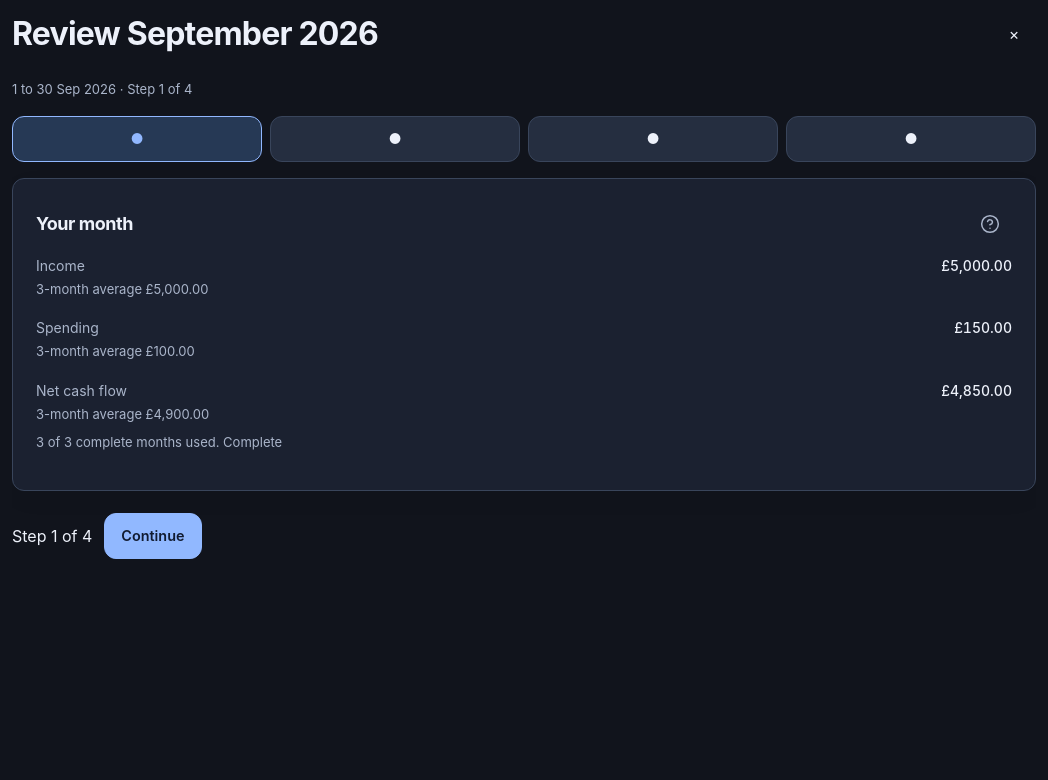
Test case: shows a currency difference and percentage only for a complete month, without changing the source money
Click the button named "2. What changed" at [395, 138], box x1=270 y1=116 x2=520 y2=162
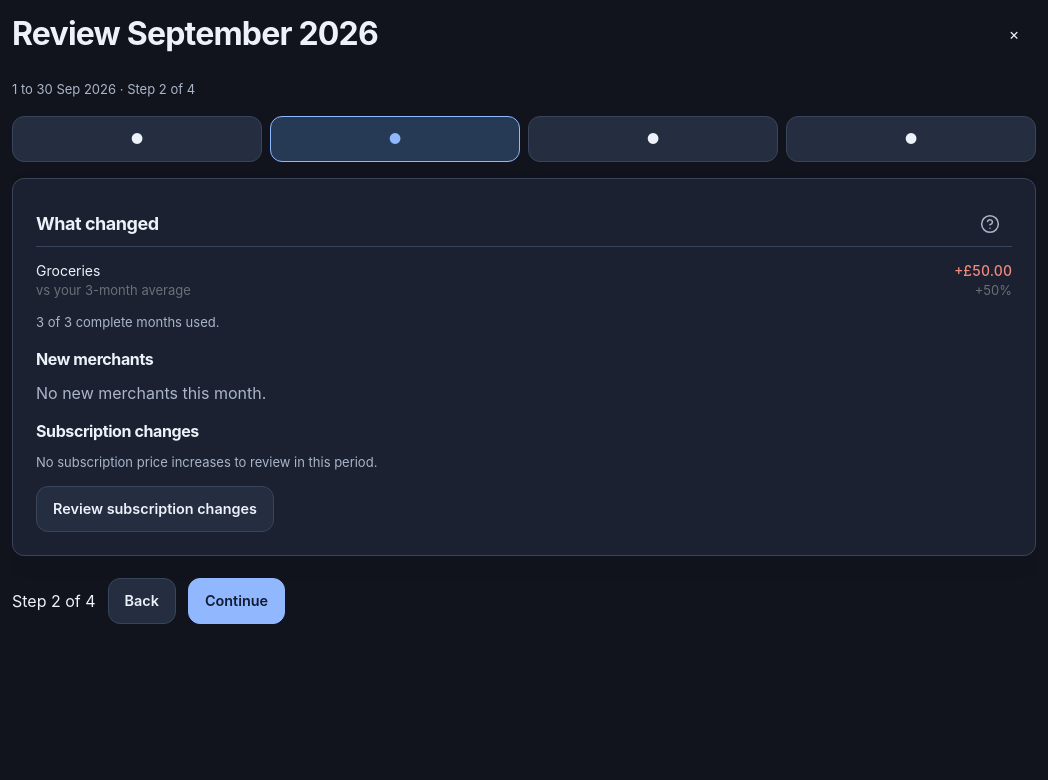
Expected: the link "Groceries vs your 3-month average +£50.00 +50%" is shown, x1=36 y1=246 x2=1012 y2=313
